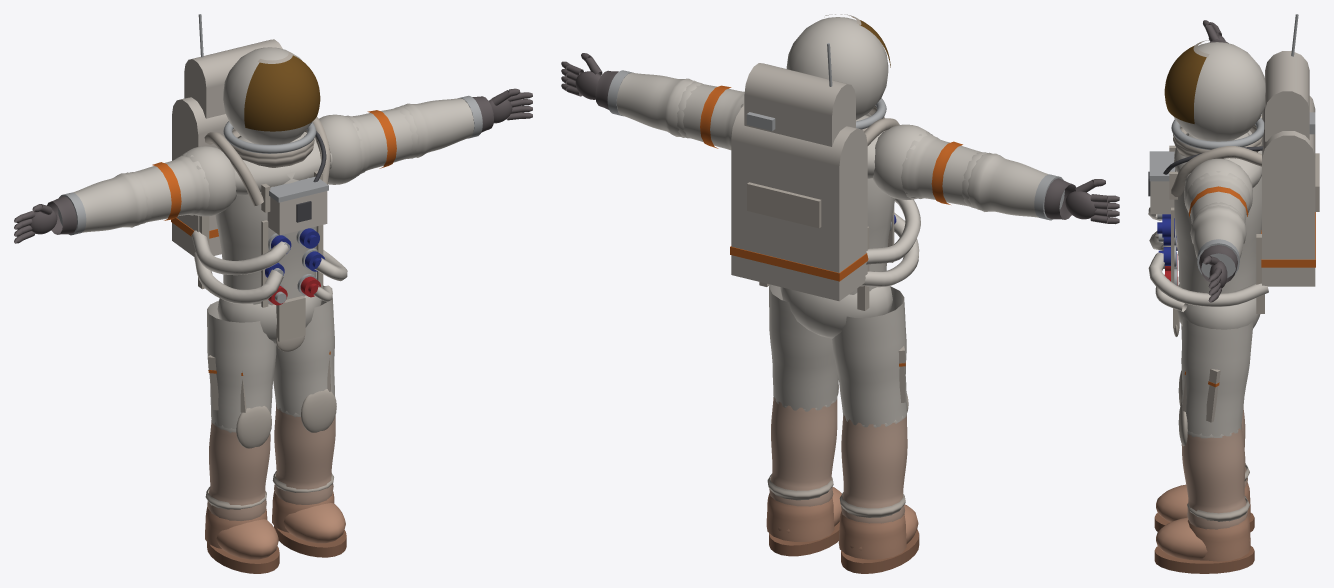
The model's file is C01_colonist_tpose_orange.glb.
3 views of the same model, side by side, from view 1: azimuth 30°, elevation 25°; view 2: azimuth 150°, elevation 25°; view 3: azimuth 270°, elevation 25° (orthographic). The views are drawn at different scales.
Parts seen in each view (by area): view 1: thigh (×2), shin (×2), forearm (×2), upper_arm (×2), visor, torso, shoulder (×2), boot (×2), oxygen_hose (×2), helmet_shell, knee_patch (×2), boot_sole (×2) (+14 smaller); view 2: pack_main, thigh (×2), shin (×2), forearm (×2), helmet_shell, upper_arm (×2), boot_shaft (×2), pack_upper_roll, pelvis, pack_top_roll, pack_upper_unit, oxygen_hose (×2) (+7 smaller); view 3: pack_main, thigh, helmet_shell, shin, torso, pack_upper_roll, boot (×2), visor, forearm, water_hose, pack_top_roll, upper_arm (+24 smaller).
Boxes of the visible parts, x1,y1,x2,y2 form: thigh (×2): [207, 285, 334, 429]; shin (×2): [207, 404, 335, 520]; forearm (×2): [73, 98, 474, 232]; upper_arm (×2): [135, 108, 415, 222]; visor: [244, 55, 320, 131]; torso: [215, 134, 316, 305]; shoulder (×2): [182, 114, 361, 216]; boot (×2): [216, 503, 345, 559]; oxygen_hose (×2): [191, 230, 288, 304]; helmet_shell: [223, 47, 311, 144]; knee_patch (×2): [236, 389, 336, 448]; boot_sole (×2): [207, 525, 346, 573]; pack_main: [731, 140, 867, 301]; thigh (×2): [769, 284, 906, 427]; shin (×2): [769, 397, 907, 523]; forearm (×2): [616, 72, 1048, 217]; helmet_shell: [786, 17, 888, 119]; upper_arm (×2): [680, 83, 981, 206]; boot_shaft (×2): [766, 492, 906, 559]; pack_upper_roll: [744, 63, 855, 127]; pelvis: [780, 286, 892, 338]; pack_top_roll: [731, 106, 867, 176]; pack_upper_unit: [744, 94, 855, 146]; oxygen_hose (×2): [860, 198, 920, 287]; pack_main: [1262, 159, 1315, 286]; thigh: [1181, 317, 1253, 436]; helmet_shell: [1173, 42, 1265, 141]; shin: [1181, 424, 1247, 529]; torso: [1174, 132, 1261, 293]; pack_upper_roll: [1265, 51, 1309, 130]; boot (×2): [1156, 484, 1249, 560]; visor: [1164, 43, 1206, 123]; forearm: [1190, 205, 1246, 258]; water_hose: [1148, 252, 1268, 306]; pack_top_roll: [1262, 96, 1315, 182]; upper_arm: [1185, 171, 1251, 224].
Bounding box in the file's own units: 2.17 × 2.02 × 0.6101.
